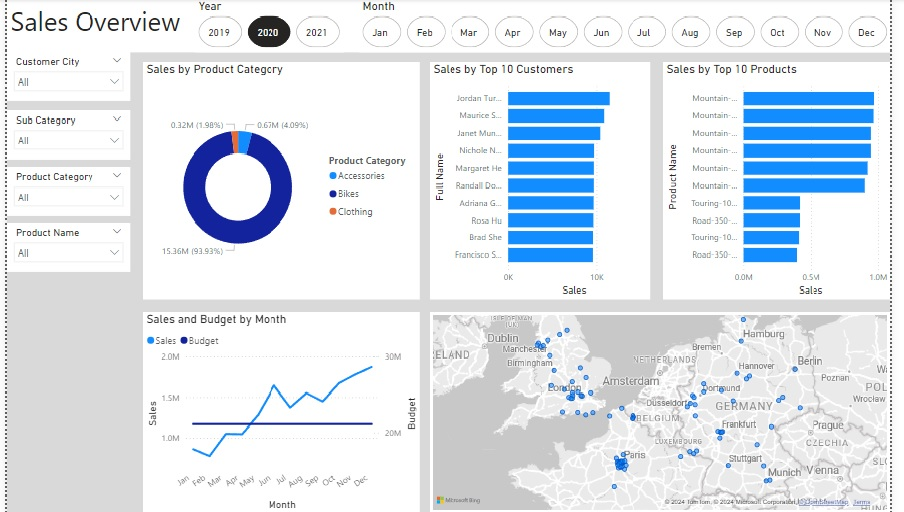

This screenshot's page, from the dashboard's own definition file:
{"tool":"powerbi","page":{"name":"Sales Overview","canvas":[1280,720],"ordinal":0},"visuals":[{"type":"textbox","box":[0,0,1280,73.8],"z":0},{"type":"slicer","fields":{"Values":["DIM_Customers.Customer City"]},"box":[0,74,179,69],"z":1000},{"type":"slicer","fields":{"Values":["DIM_Products.Sub Category"]},"box":[0,155,179,69],"z":2000},{"type":"slicer","fields":{"Values":["DIM_Products.Product Category"]},"box":[0,234,179,69],"z":3000},{"type":"slicer","fields":{"Values":["DIM_Products.Product Name"]},"box":[0,313,179,69],"z":4000},{"type":"advancedSlicerVisual","fields":{"Values":["DIM_Calendar.Year"]},"box":[272.5,0,216.2,73.8],"z":5000},{"type":"advancedSlicerVisual","title":"Month","fields":{"Values":["DIM_Calendar.MonthShort"]},"box":[510,0,770,73.8],"z":6000},{"type":"map","fields":{"Category":["DIM_Customers.Customer City"]},"box":[611.7,438.3,668.3,281.7],"z":7000},{"type":"lineChart","title":"Sales and Budget by Month","fields":{"Category":["DIM_Calendar.MonthShort"],"Y":["Key_Measures.Sales"],"Y2":["Key_Measures.Budget Amount"]},"box":[196.7,438.3,400,281.7],"z":8000},{"type":"donutChart","fields":{"Y":["Key_Measures.Sales"],"Series":["DIM_Products.Product Category"]},"box":[196.7,88.3,400,331.7],"z":9000},{"type":"barChart","title":"Sales by Top 10 Customers","fields":{"Y":["Key_Measures.Sales"],"Category":["DIM_Customers.Full Name"]},"box":[611.7,88.3,320,331.7],"z":10000},{"type":"barChart","title":"Sales by Top 10 Products","fields":{"Y":["Key_Measures.Sales"],"Category":["DIM_Products.Product Name"]},"box":[950,88.3,330,331.7],"z":11000}]}

Visuals, with their boxes in screenshot pixels (x1, y1, x2, y2), scaled from the page's 1280x720 canvas onto the 904x512 screenshot:
textbox: <bbox>0, 0, 903, 52</bbox>
slicer - DIM_Customers.Customer City: <bbox>0, 53, 126, 102</bbox>
slicer - DIM_Products.Sub Category: <bbox>0, 110, 126, 159</bbox>
slicer - DIM_Products.Product Category: <bbox>0, 166, 126, 215</bbox>
slicer - DIM_Products.Product Name: <bbox>0, 223, 126, 272</bbox>
advancedSlicerVisual - DIM_Calendar.Year: <bbox>192, 0, 345, 52</bbox>
"Month" advancedSlicerVisual: <bbox>360, 0, 903, 52</bbox>
map - DIM_Customers.Customer City: <bbox>432, 312, 903, 511</bbox>
"Sales and Budget by Month" lineChart: <bbox>139, 312, 421, 511</bbox>
donutChart - Key_Measures.Sales x DIM_Products.Product Category: <bbox>139, 63, 421, 299</bbox>
"Sales by Top 10 Customers" barChart: <bbox>432, 63, 658, 299</bbox>
"Sales by Top 10 Products" barChart: <bbox>671, 63, 903, 299</bbox>
